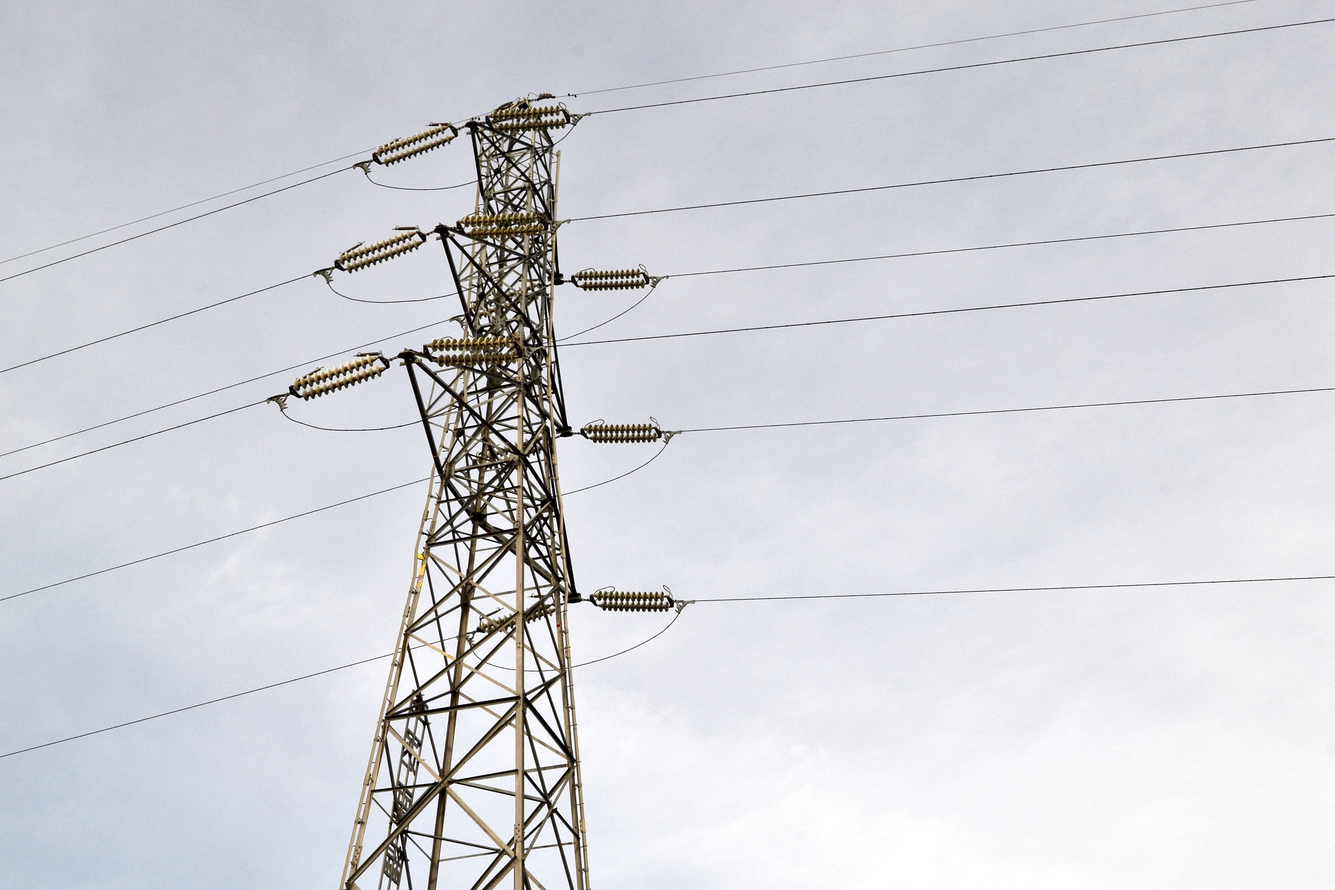insulator: (286, 351, 384, 402), (336, 229, 421, 275), (368, 126, 456, 168), (433, 333, 523, 371), (486, 103, 572, 139), (457, 217, 563, 238), (583, 421, 668, 446), (598, 590, 680, 612), (566, 272, 659, 290)
